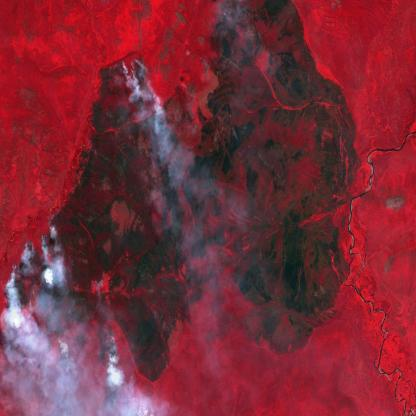fire: (0, 218, 119, 376), (118, 55, 165, 120)
